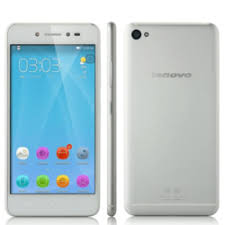lenovo: (123, 19, 220, 219), (5, 20, 101, 220)
